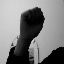a: (17, 6, 47, 42)
